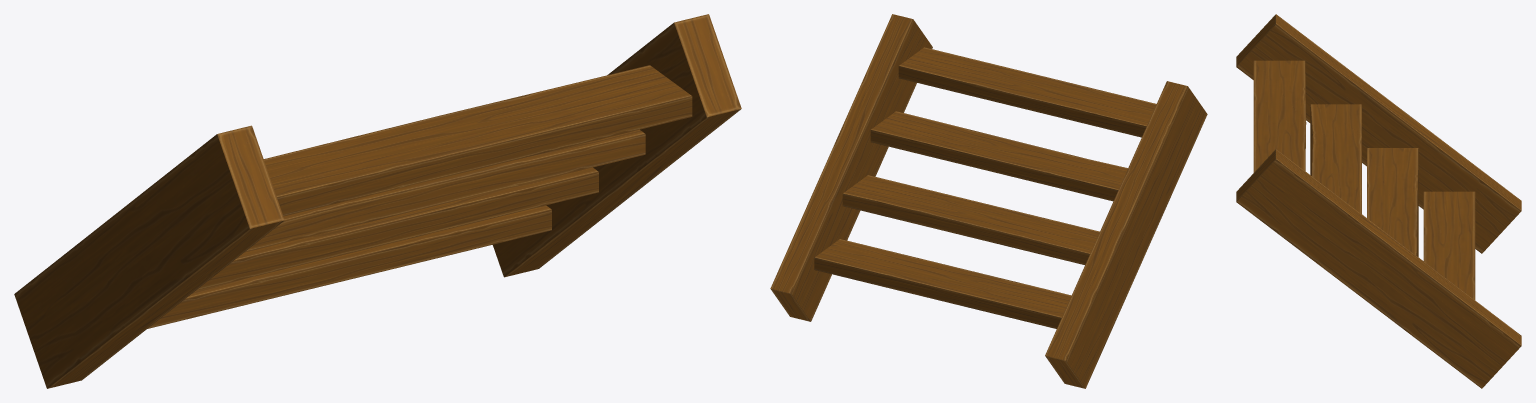
Rendered from SM_Stairs_Interior_B_02.fbx.
The picture shows the model from 3 angles, left to right: view 1: azimuth 30°, elevation 25°; view 2: azimuth 150°, elevation 25°; view 3: azimuth 270°, elevation 25°; orthographic projection. The views are drawn at different scales.
Parts seen in each view (by area): view 1: SM_Stairs_Interior_B_02; view 2: SM_Stairs_Interior_B_02; view 3: SM_Stairs_Interior_B_02.
Part boxes in pixels (x1,y1,x2,y2): SM_Stairs_Interior_B_02: (14,14,741,388); SM_Stairs_Interior_B_02: (770,14,1207,388); SM_Stairs_Interior_B_02: (1236,14,1521,388).
Bounding box in the file's own units: 2.5 × 1.84 × 2.08.
